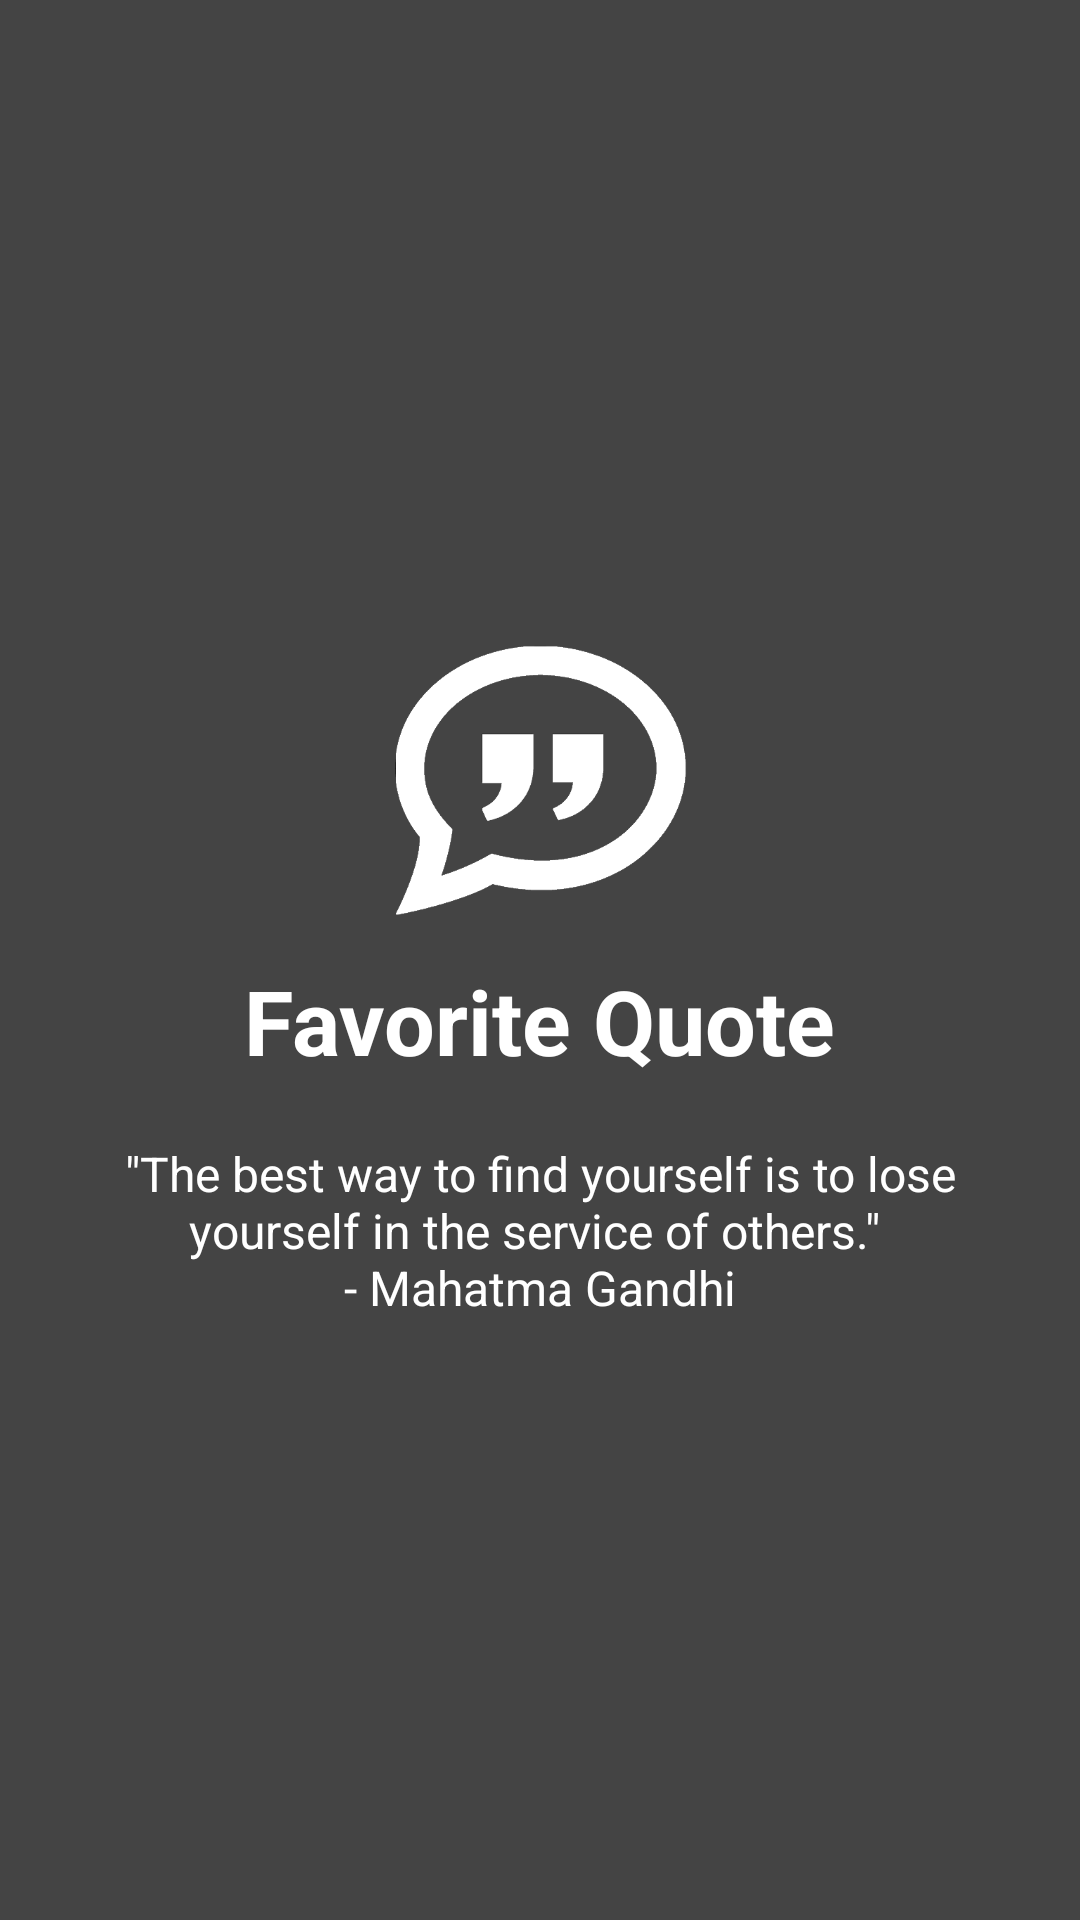

Screen size 1080 x 1920. Icon name, then its center in pixels as (x,y):
testimonial: (540,780)
